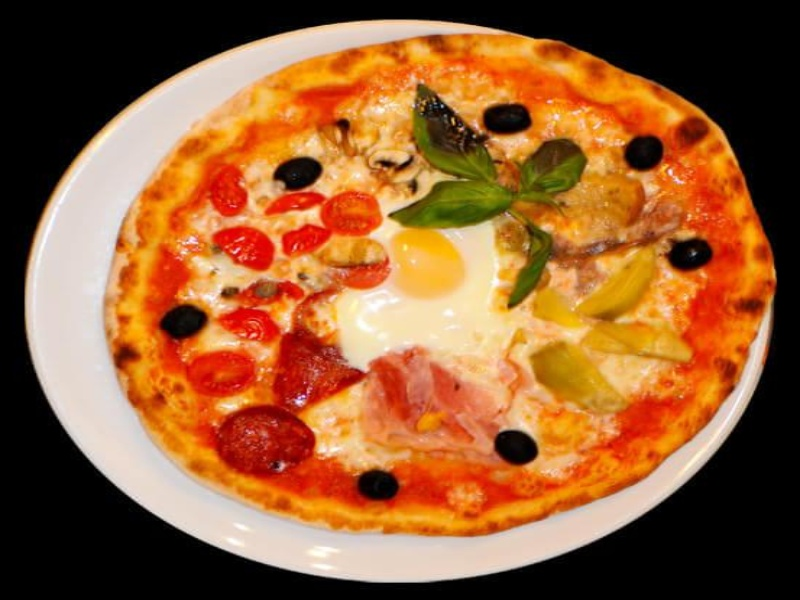oeuf: (380, 223, 480, 317)
olive: (479, 98, 542, 143), (352, 462, 413, 508), (152, 300, 217, 343), (488, 423, 547, 468), (666, 231, 721, 278), (269, 153, 328, 194), (619, 132, 674, 175)
